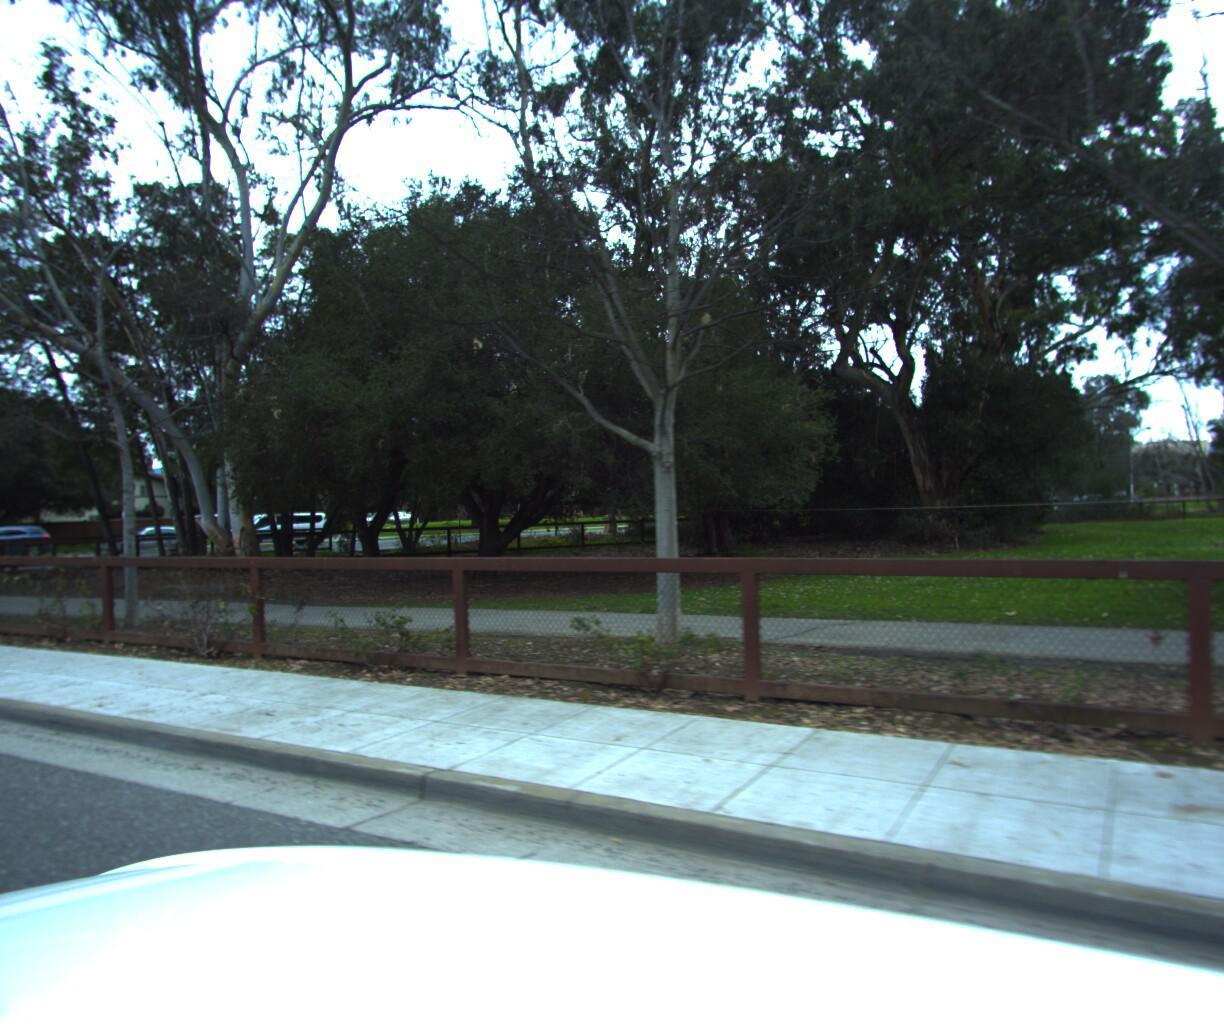car: (224, 505, 331, 542), (0, 519, 60, 556)
